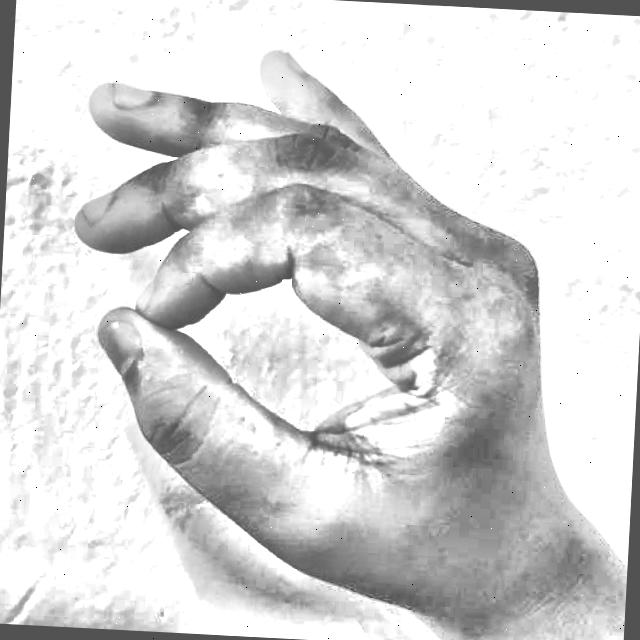Yo: (27, 18, 607, 640)
